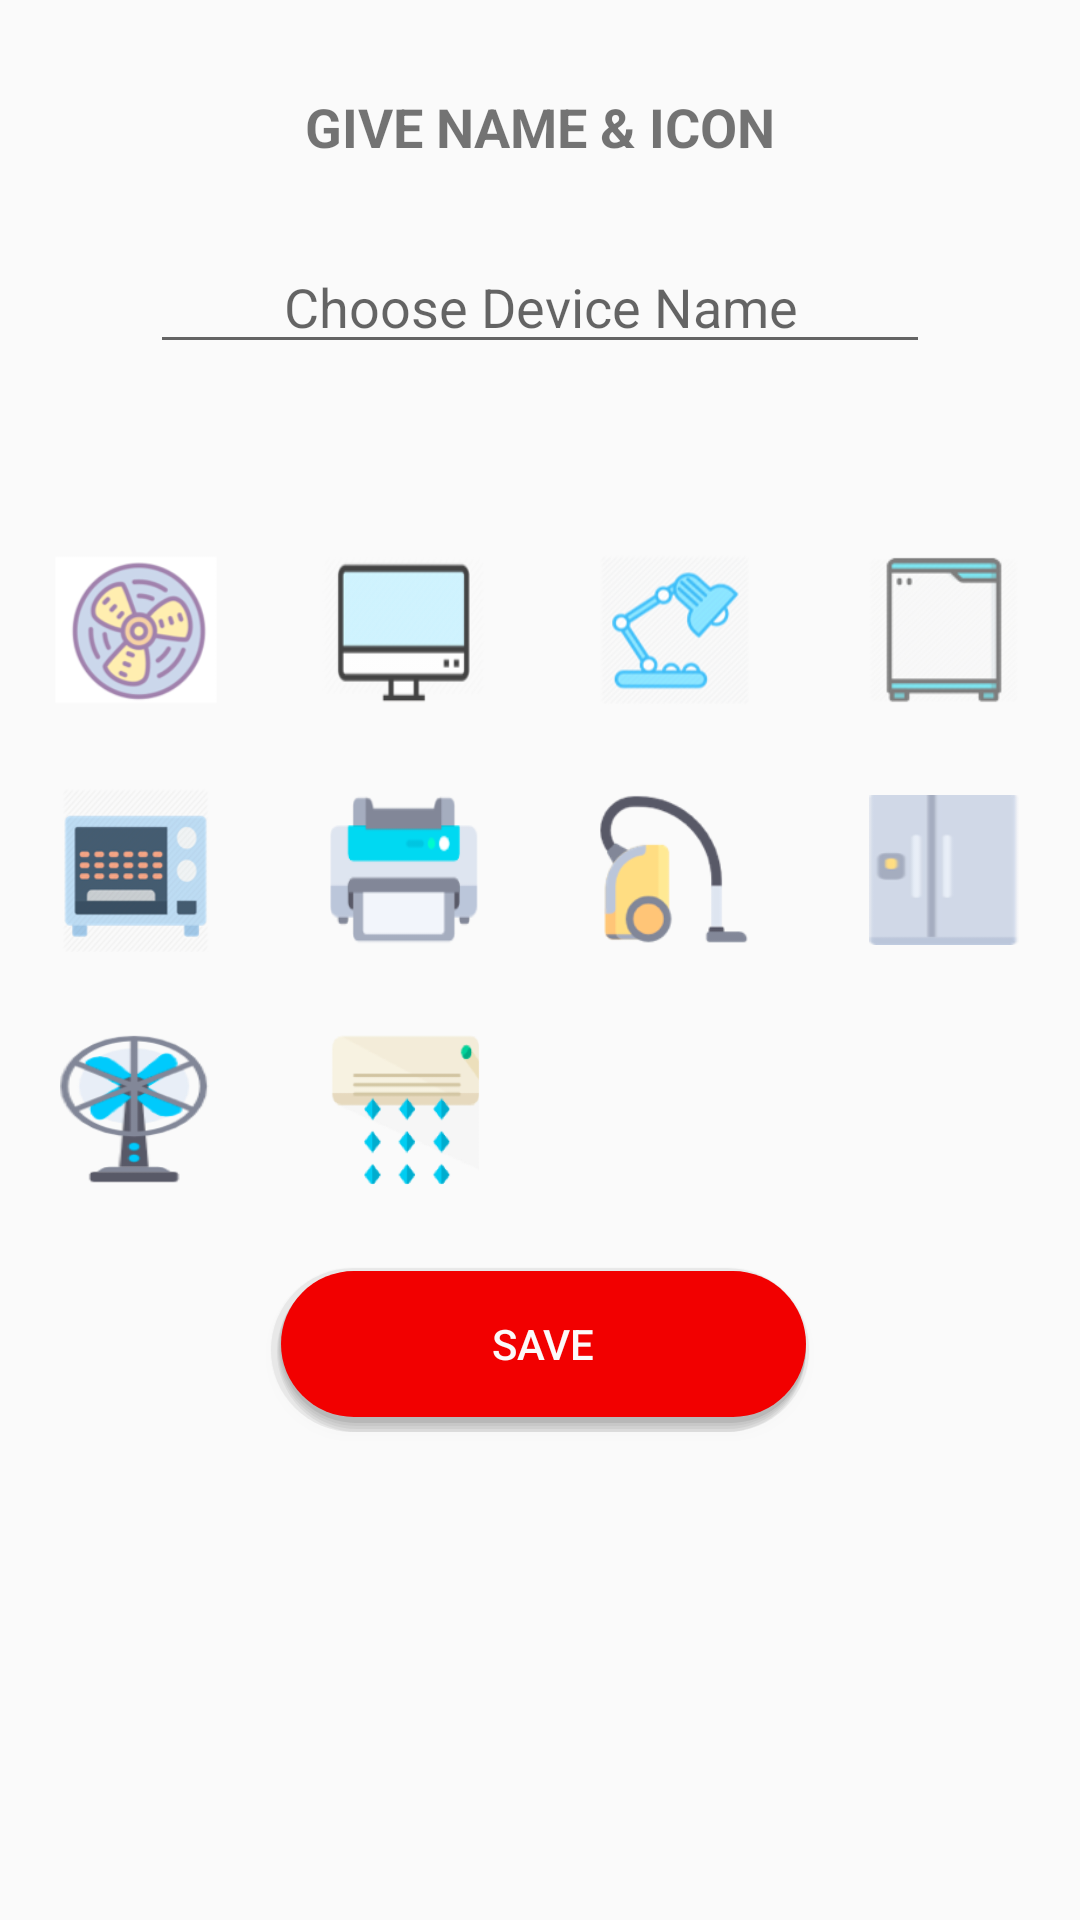

Screen size 1080×1920. Icon name, then its center in pixels as point (x, y):
ac sm: point (405, 1110)
cleaner sm: point (673, 869)
fan sm: point (139, 631), point (133, 1109)
fridge sm: point (943, 870)
lamp sm: point (675, 630)
owen sm: point (136, 876)
printer sm: point (403, 869)
washing sm: point (944, 630)
